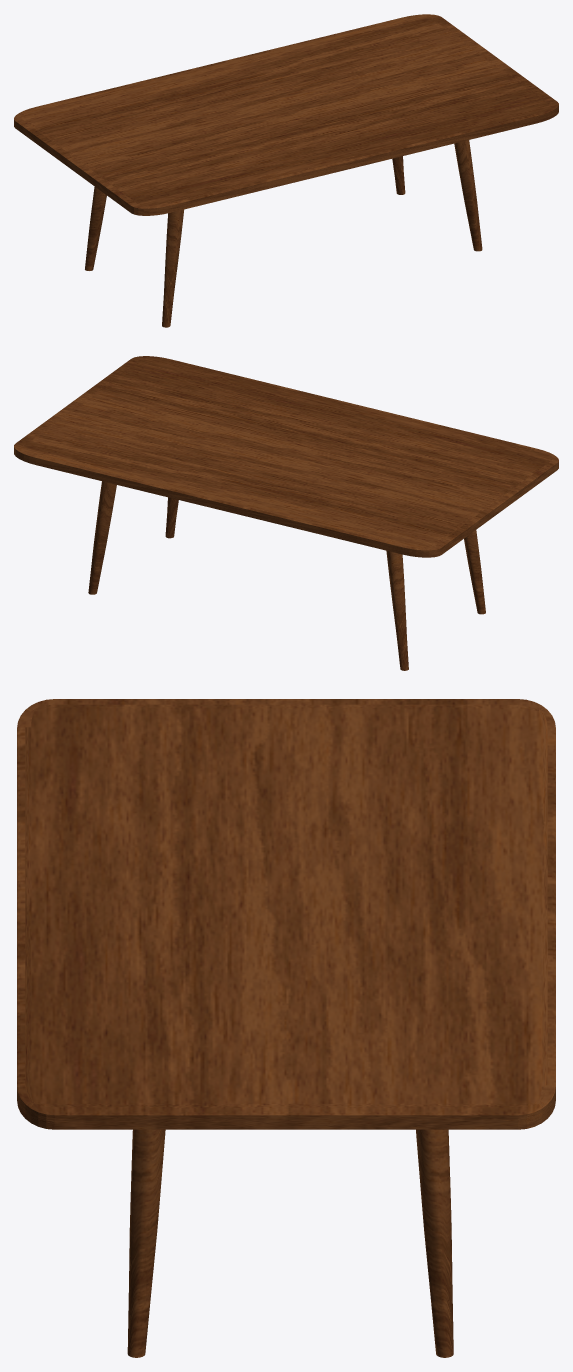
File: Table.fbx
3 renders of one model, top to bottom at view 1: azimuth 30°, elevation 25°; view 2: azimuth 150°, elevation 25°; view 3: azimuth 270°, elevation 25°, orthographic. The views are drawn at different scales.
Parts seen in each view (by area): view 1: Cube; view 2: Cube; view 3: Cube.
Boxes of the visible parts, box(x1,y1,x2,y2) form: Cube: box(14, 14, 558, 327); Cube: box(14, 356, 558, 670); Cube: box(17, 699, 555, 1357).
Bounding box in the file's own units: 282 × 94.24 × 155.
